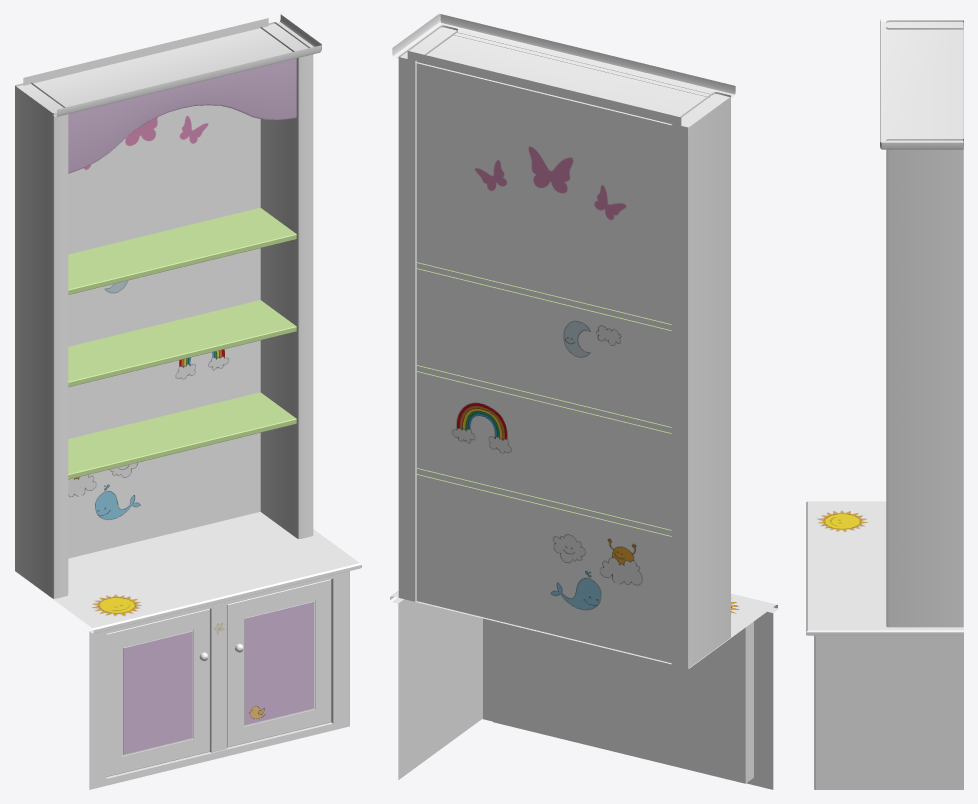
Rendered from Bedroom_Bookcase.FBX.
3 views of the same model, side by side, from view 1: azimuth 30°, elevation 25°; view 2: azimuth 150°, elevation 25°; view 3: azimuth 270°, elevation 25° (orthographic). The views are drawn at different scales.
Parts seen in each view (by area): view 1: Bedroom_Bookcase; view 2: Bedroom_Bookcase; view 3: Bedroom_Bookcase.
Part boxes in pixels (box(x1,y1,x2,y2)): Bedroom_Bookcase: box(14, 14, 361, 789); Bedroom_Bookcase: box(390, 14, 777, 789); Bedroom_Bookcase: box(806, 19, 963, 789).
Size of the model in its own units: 103 by 240 by 52.78.
1 material, 1 textured.
